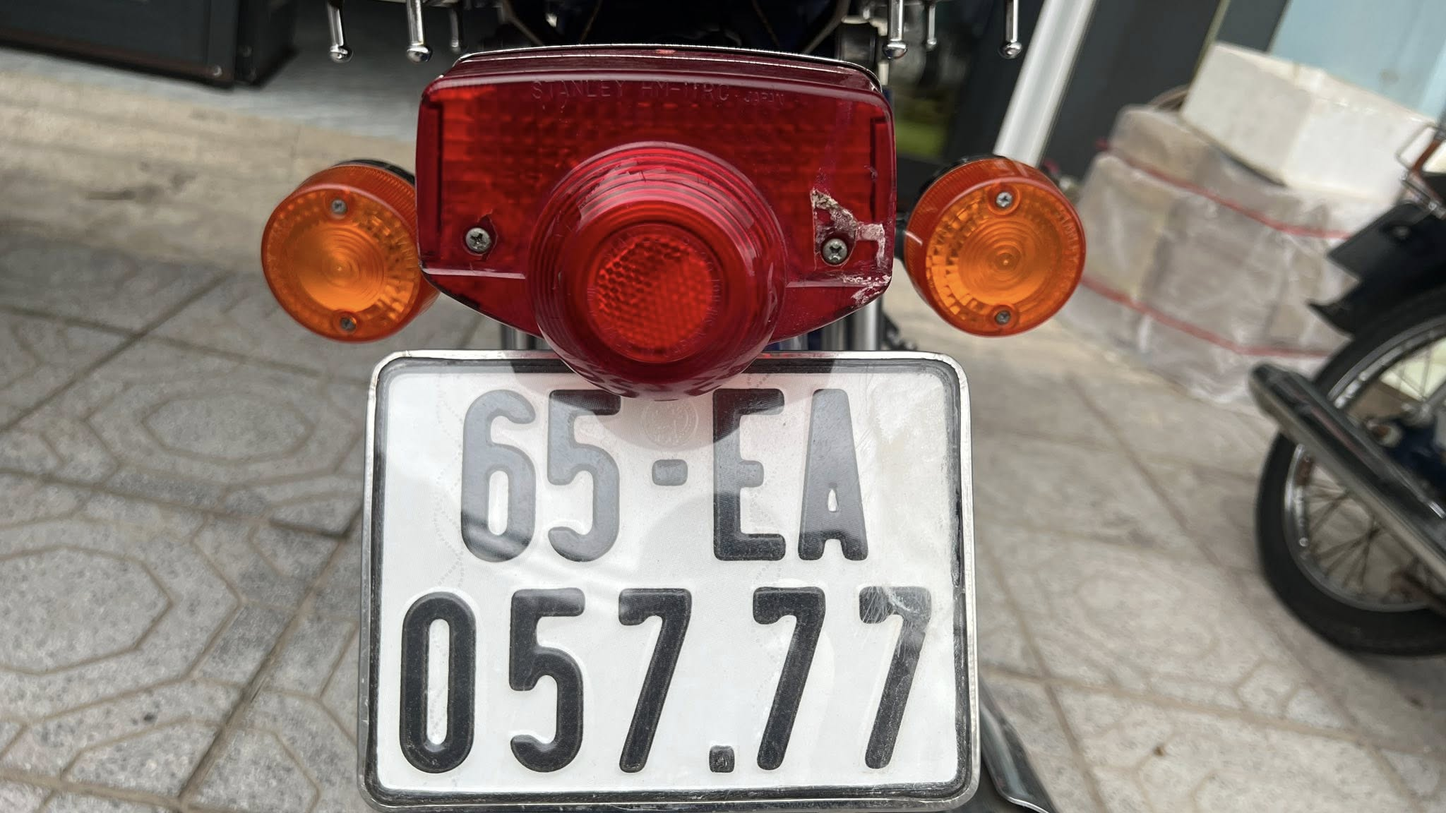bien_so: (350, 336, 998, 812)
